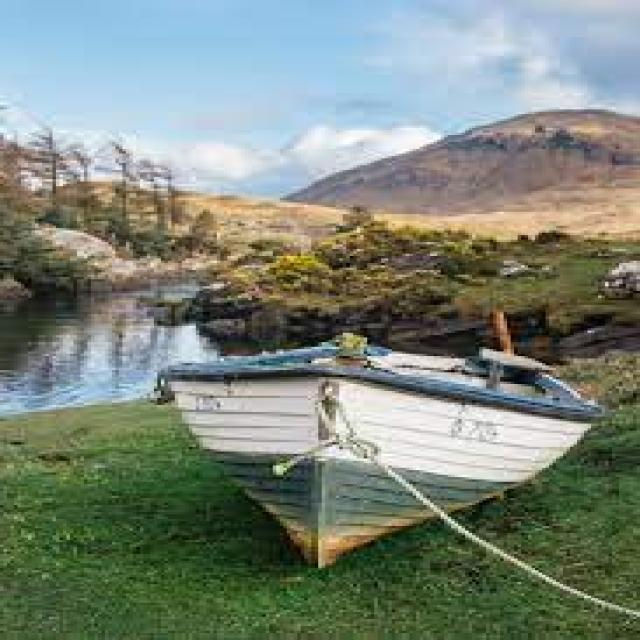ship2: (156, 337, 605, 571)
